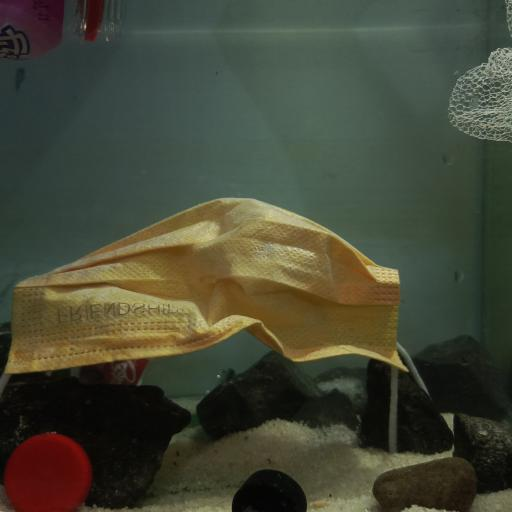bottle_cap: (4, 426, 94, 509), (230, 465, 309, 512)
mask: (4, 192, 412, 386)
net: (447, 42, 512, 152)
plastic_bottle: (4, 2, 112, 66)
